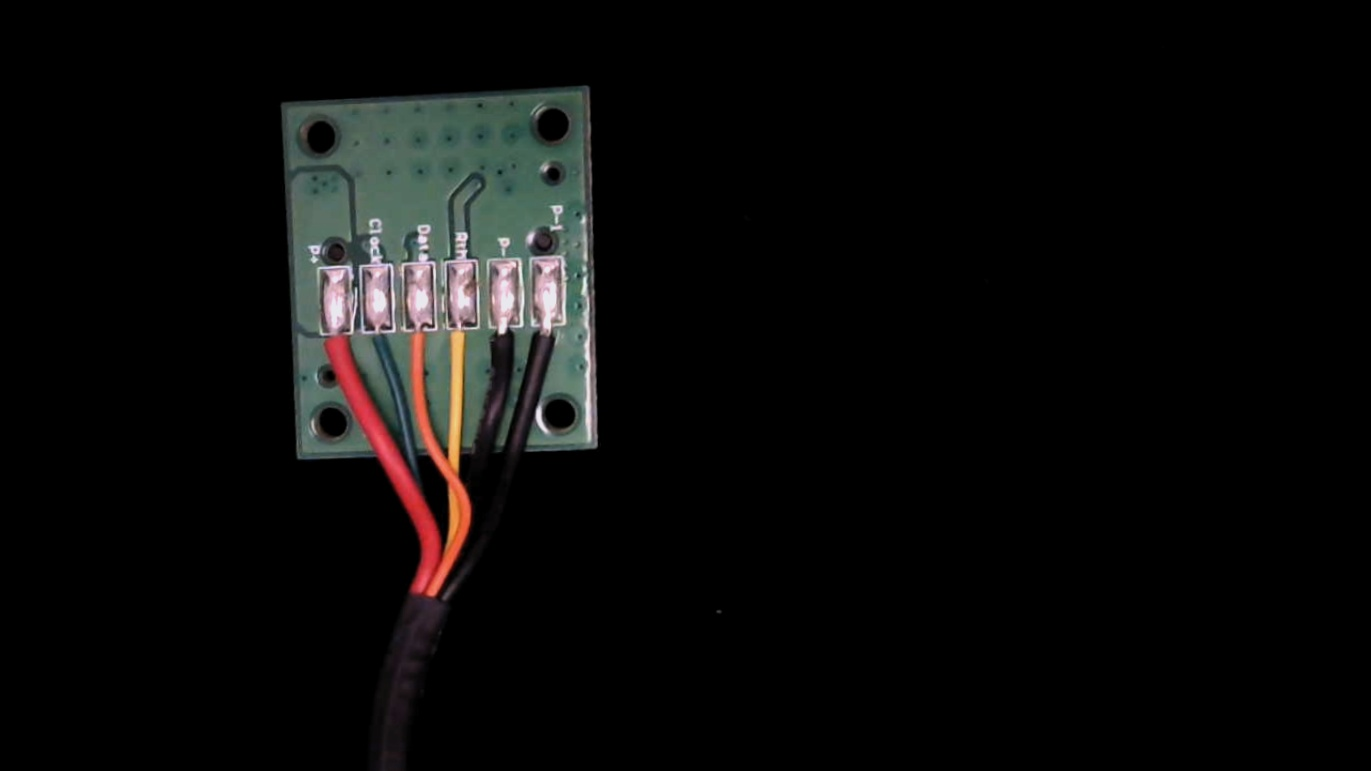Black: (485, 313, 522, 384)
Black1: (528, 310, 566, 379)
Green: (358, 315, 397, 376)
Orange: (400, 316, 436, 366)
Red: (318, 321, 356, 385)
Yellow: (438, 313, 480, 379)
